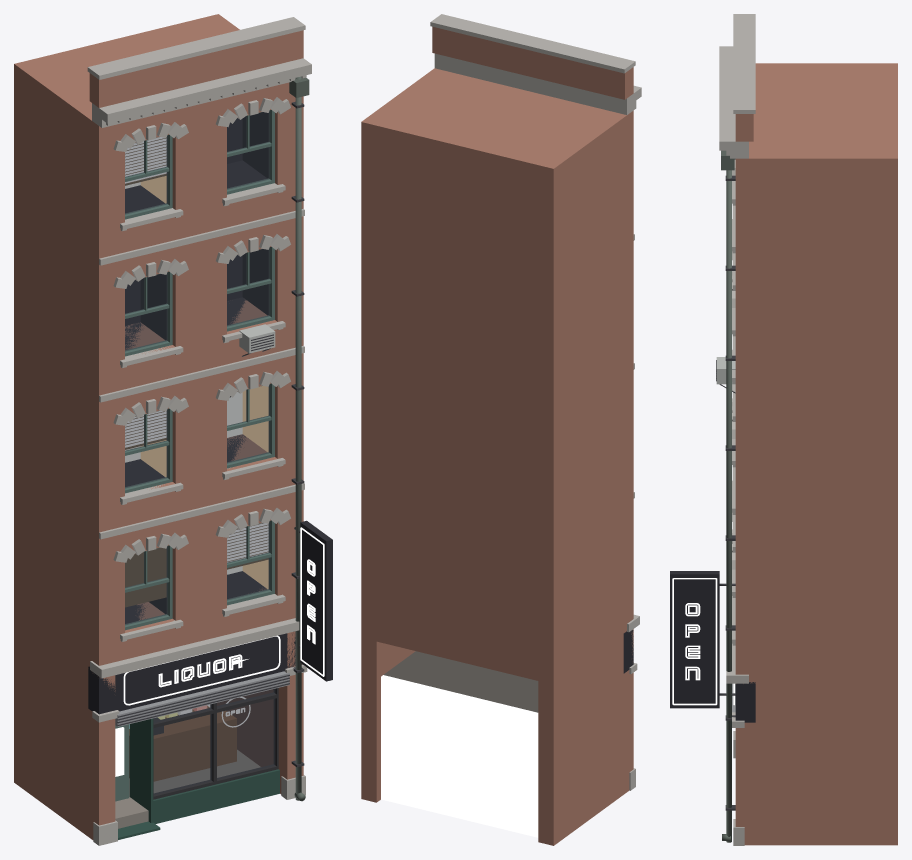
The model's file is bldg_5.glb.
3 views of the same model, side by side, from view 1: azimuth 30°, elevation 25°; view 2: azimuth 150°, elevation 25°; view 3: azimuth 270°, elevation 25° (orthographic). The views are drawn at different scales.
Visible parts, largest first — view 1: bldg_5; view 2: bldg_5; view 3: bldg_5.
Part boxes in pixels (<box>): bldg_5: <box>14,14,332,845</box>; bldg_5: <box>361,14,641,845</box>; bldg_5: <box>670,14,897,845</box>.
Size of the model in its own units: 5.1 by 18 by 5.05.
